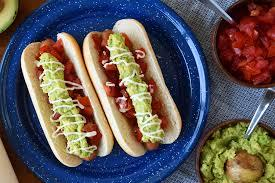Completos: (83, 20, 185, 164), (23, 36, 105, 172)
